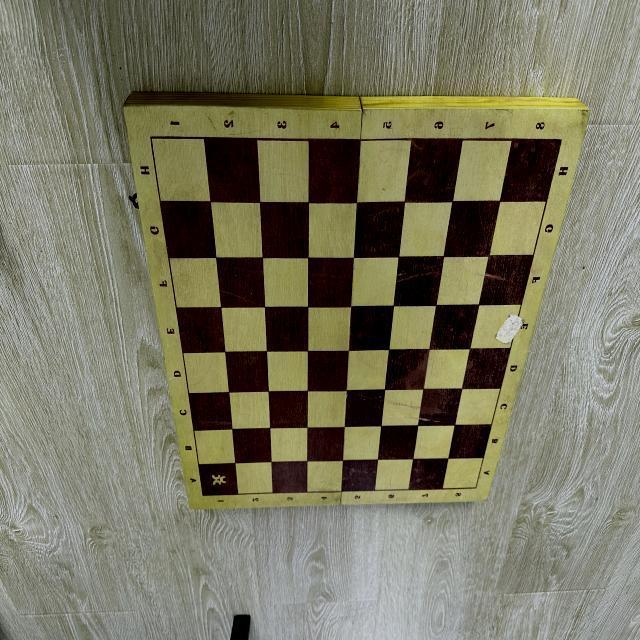chess-table-corners: (144, 129, 158, 147), (558, 136, 566, 144), (472, 484, 479, 492), (199, 492, 206, 499)
